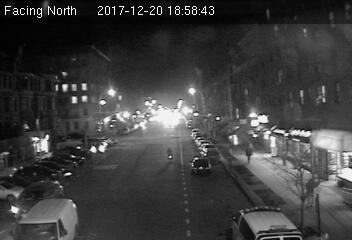bicycle: (165, 146, 173, 165)
car: (9, 178, 64, 218), (189, 157, 211, 173)
police: (225, 206, 308, 240)
